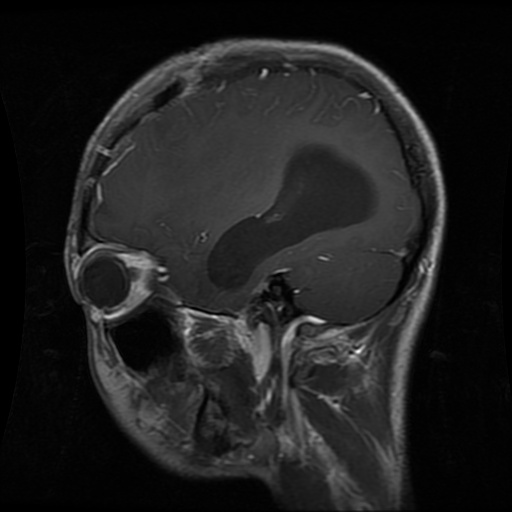glioma: (210, 139, 381, 288)
